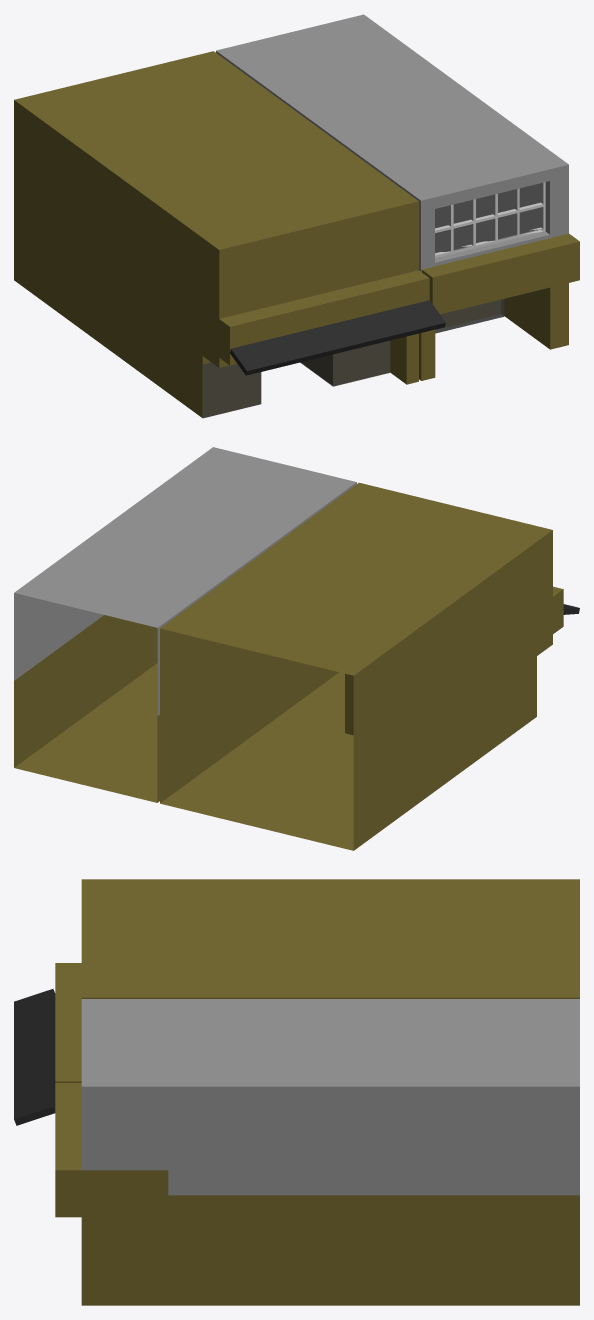
File: edificio 4.fbx
3 renders of one model, top to bottom at view 1: azimuth 30°, elevation 25°; view 2: azimuth 150°, elevation 25°; view 3: azimuth 270°, elevation 25°, orthographic. The views are drawn at different scales.
Visible parts, largest first — view 1: Base, Parte-de-Arriba, Parte-de-Abajo, Cortina, Entrada, Ventana, Barrotes, Entrada2; view 2: Base, Parte-de-Arriba, Parte-de-Abajo; view 3: Parte-de-Arriba, Base, Parte-de-Abajo, Cortina.
Part boxes in pixels (x1=…): Base: x1=14, y1=51, x2=429, y2=418; Parte-de-Arriba: x1=216, y1=14, x2=568, y2=271; Parte-de-Abajo: x1=419, y1=233, x2=579, y2=380; Cortina: x1=230, y1=300, x2=445, y2=375; Entrada: x1=203, y1=340, x2=390, y2=418; Ventana: x1=435, y1=182, x2=543, y2=253; Barrotes: x1=435, y1=182, x2=545, y2=257; Entrada2: x1=435, y1=299, x2=504, y2=333; Base: x1=160, y1=482, x2=563, y2=850; Parte-de-Arriba: x1=14, y1=447, x2=356, y2=715; Parte-de-Abajo: x1=14, y1=615, x2=159, y2=802; Parte-de-Arriba: x1=81, y1=999, x2=579, y2=1195; Base: x1=55, y1=879, x2=579, y2=1082; Parte-de-Abajo: x1=55, y1=1083, x2=579, y2=1305; Cortina: x1=14, y1=989, x2=55, y2=1125.
Size of the model in its own units: 481 by 237 by 555.
